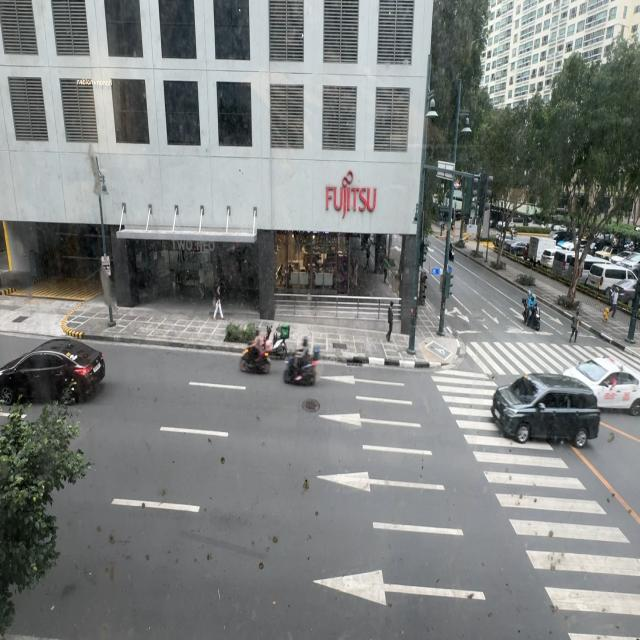crossing: (568, 304, 583, 353)
pedestrain: (213, 284, 224, 320), (386, 302, 394, 342), (611, 287, 619, 319)
